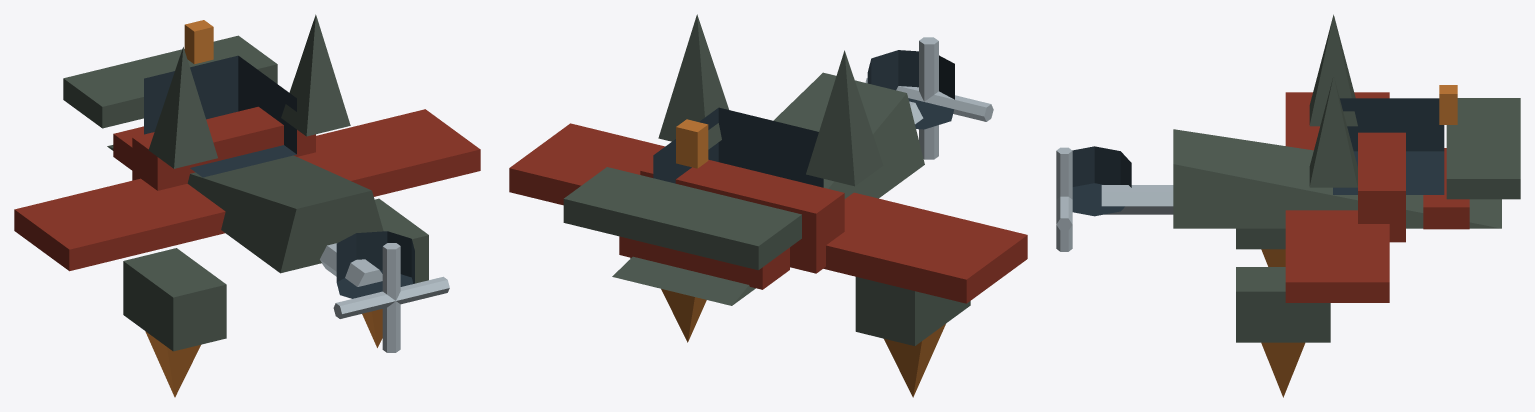
File: bomber.obj
The picture shows the model from 3 angles, left to right: view 1: azimuth 30°, elevation 25°; view 2: azimuth 150°, elevation 25°; view 3: azimuth 270°, elevation 25°; orthographic projection. The views are drawn at different scales.
Parts seen in each view (by area): view 1: air; view 2: air; view 3: air.
Boxes of the visible parts, x1,y1,x2,y2 form: air: (14, 14, 480, 397); air: (509, 14, 1027, 397); air: (1056, 14, 1520, 397).
Size of the model in its own units: 2.23 by 1.68 by 2.31.
